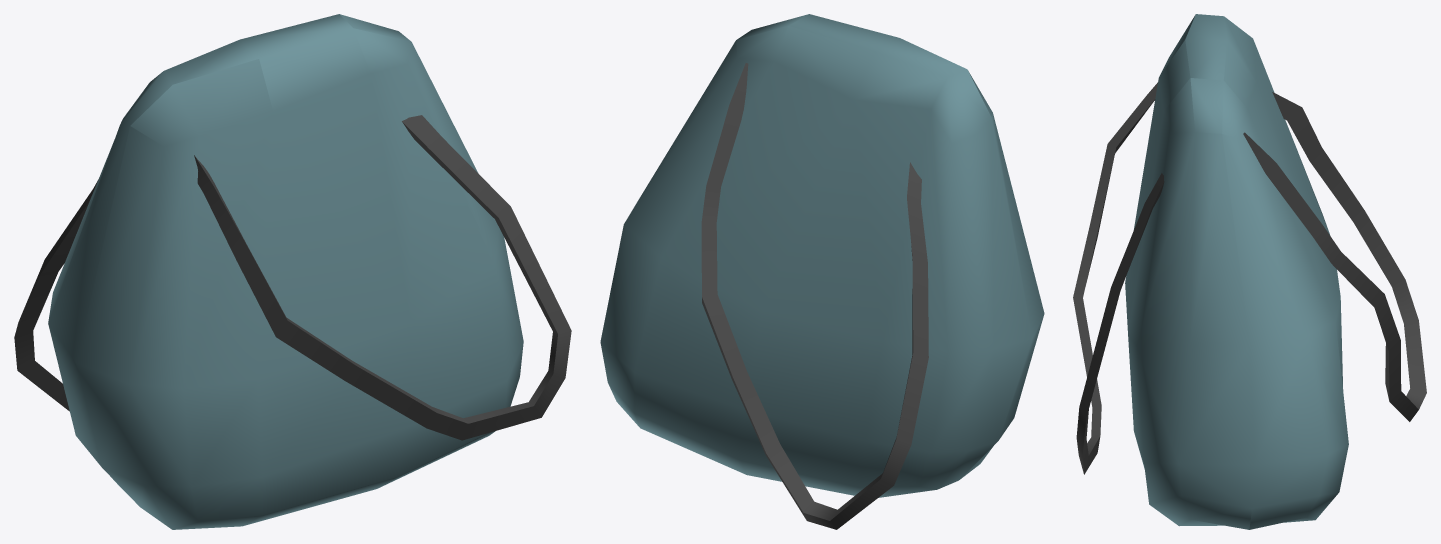
Rendered from Trash packet.fbx.
3 views of the same model, side by side, from view 1: azimuth 30°, elevation 25°; view 2: azimuth 150°, elevation 25°; view 3: azimuth 270°, elevation 25° (orthographic). The views are drawn at different scales.
Visible parts, largest first — view 1: PM3D_Cube3D1_22; view 2: PM3D_Cube3D1_22; view 3: PM3D_Cube3D1_22.
Part boxes in pixels (x1,y1,x2,y2): PM3D_Cube3D1_22: (14, 14, 571, 529); PM3D_Cube3D1_22: (600, 14, 1044, 529); PM3D_Cube3D1_22: (1073, 14, 1426, 529).
Bounding box in the file's own units: 32.63 × 33.9 × 25.38.
